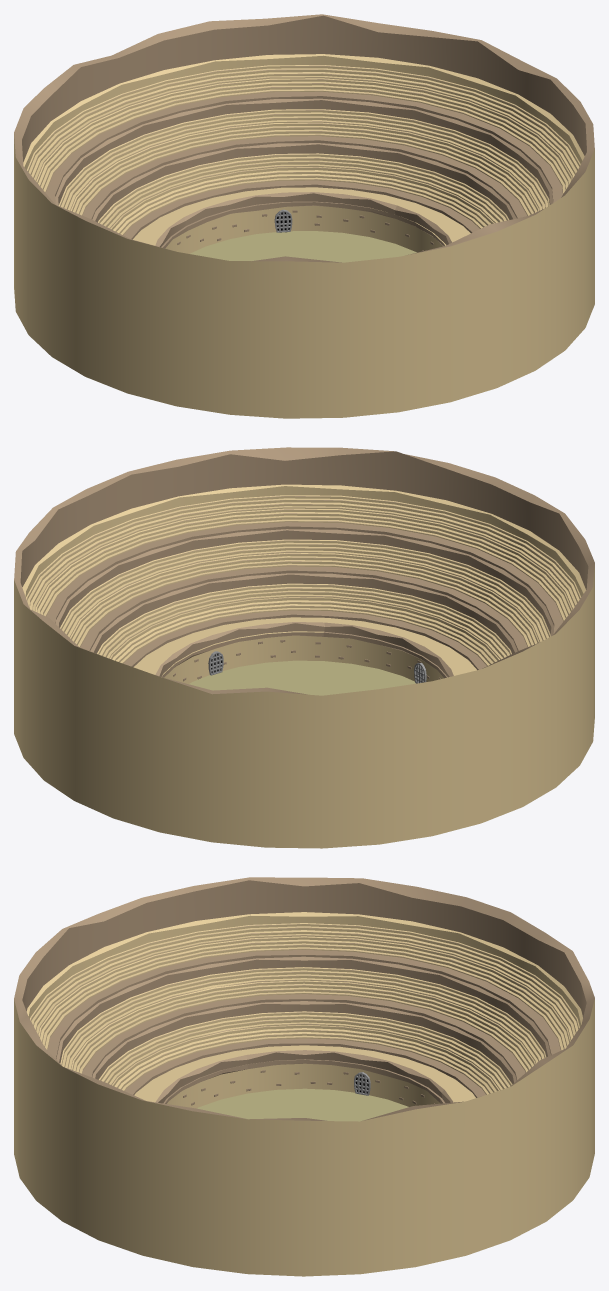
The model's file is Collesium.fbx.
3 renders of one model, top to bottom at view 1: azimuth 30°, elevation 25°; view 2: azimuth 150°, elevation 25°; view 3: azimuth 270°, elevation 25°, orthographic.
Parts seen in each view (by area): view 1: Cylinder.002; view 2: Cylinder.002; view 3: Cylinder.002.
Part boxes in pixels (left/top/right/bottom): Cylinder.002: left=14, top=14, right=594, bottom=418; Cylinder.002: left=14, top=447, right=594, bottom=848; Cylinder.002: left=14, top=877, right=594, bottom=1276.
Bounding box in the file's own units: 14404 × 4410 × 14404.
